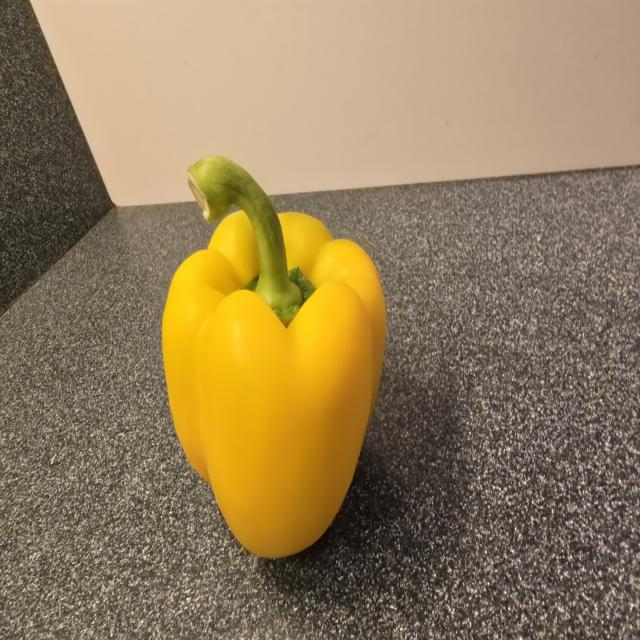Bell Pepper: (160, 159, 383, 560)
